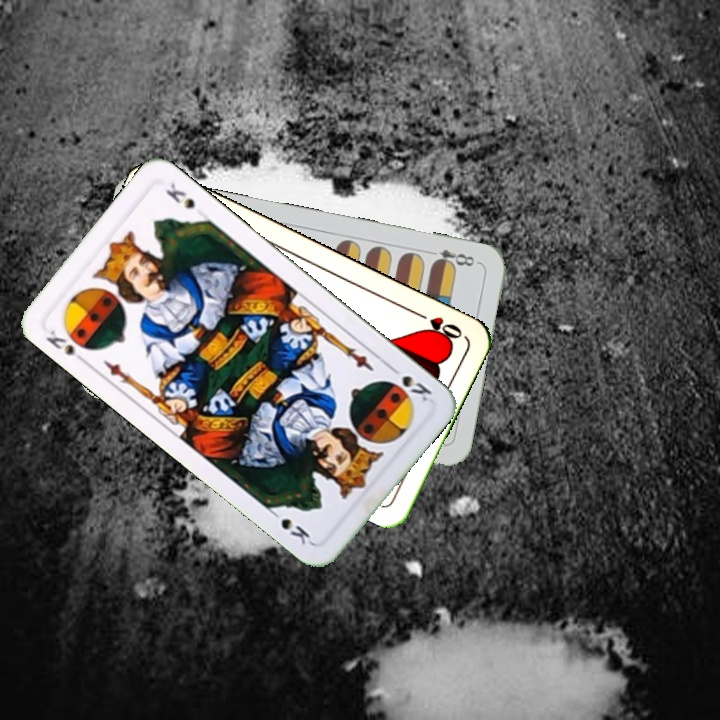E8: (423, 245, 481, 271)
HO: (411, 307, 465, 345)
SK: (384, 361, 435, 404), (42, 326, 90, 367)
